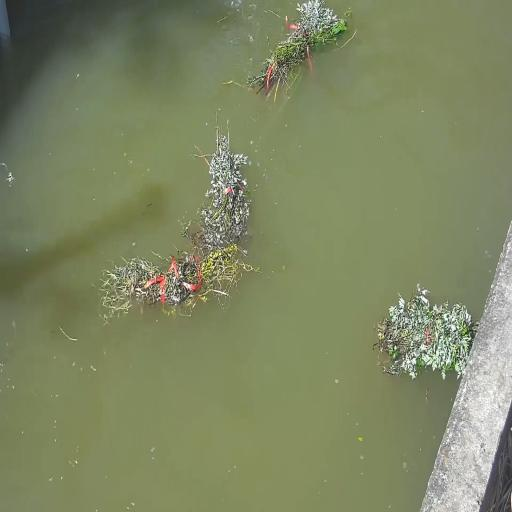twig: (102, 240, 255, 318), (247, 1, 346, 102), (373, 284, 474, 381), (194, 117, 251, 249)
